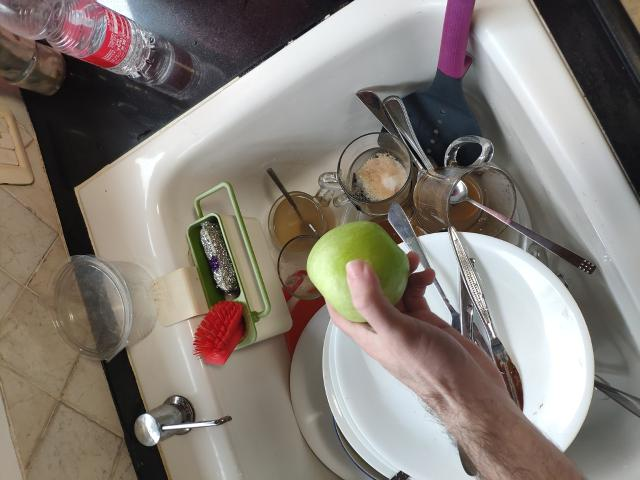apple: (304, 219, 416, 329)
